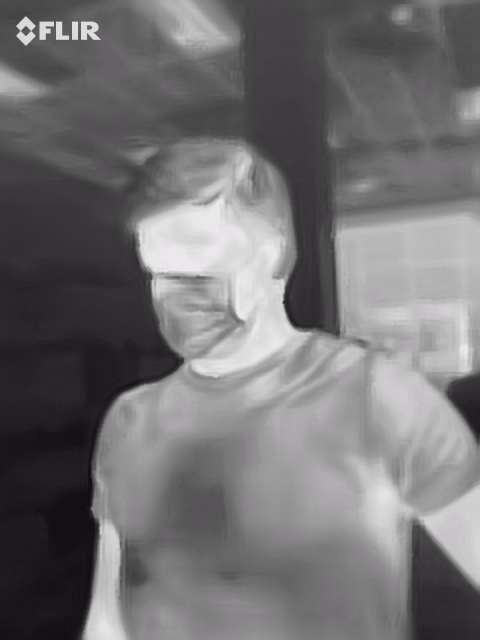head: (125, 136, 298, 362)
